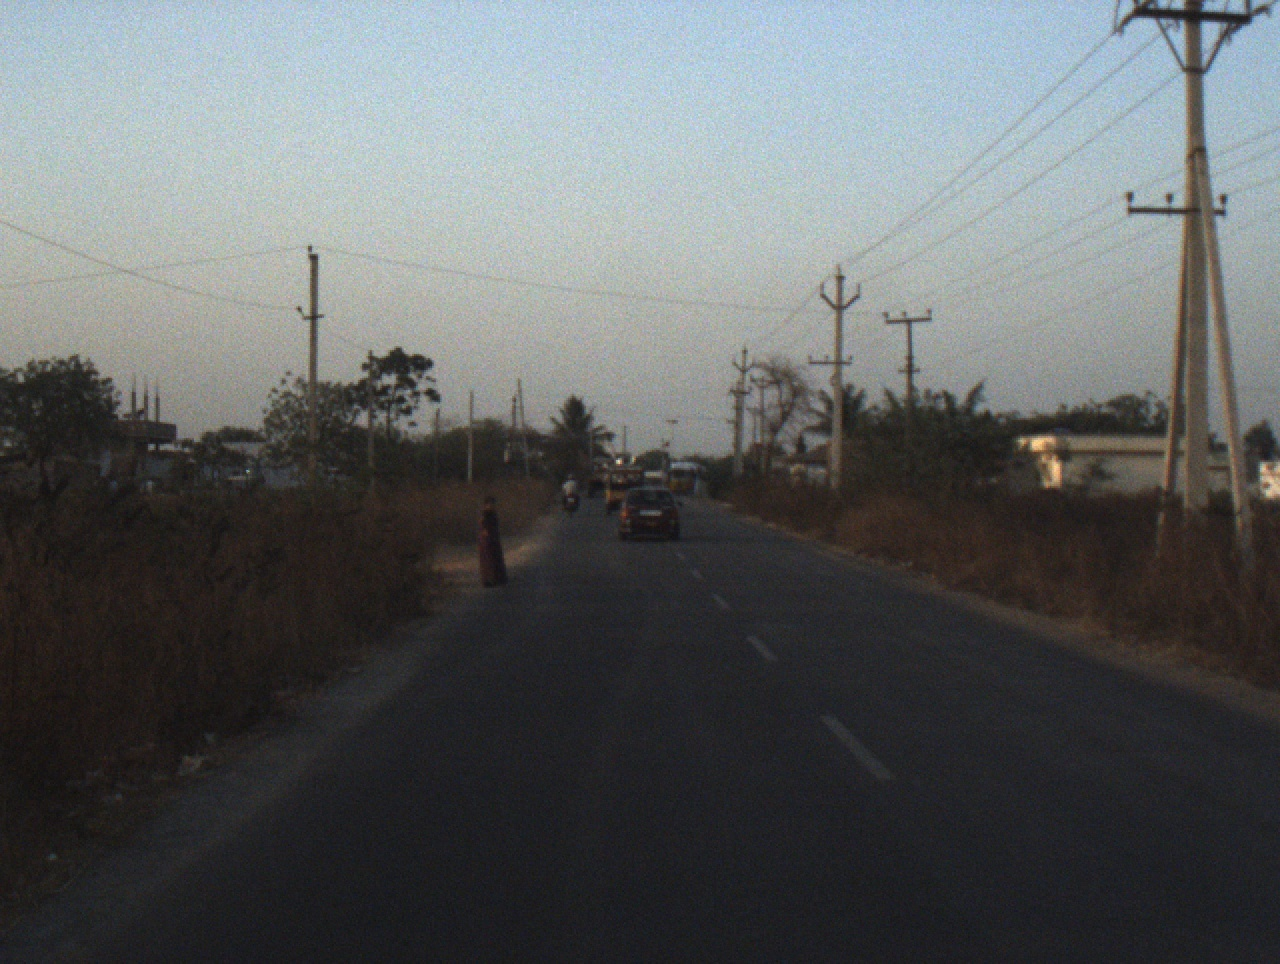autorickshaw: (585, 456, 614, 498), (665, 462, 697, 495)
car: (618, 484, 686, 541), (603, 455, 644, 513), (638, 469, 666, 492)
motorcycle: (559, 484, 580, 517)
person: (476, 494, 511, 591)
rider: (559, 471, 583, 511)
